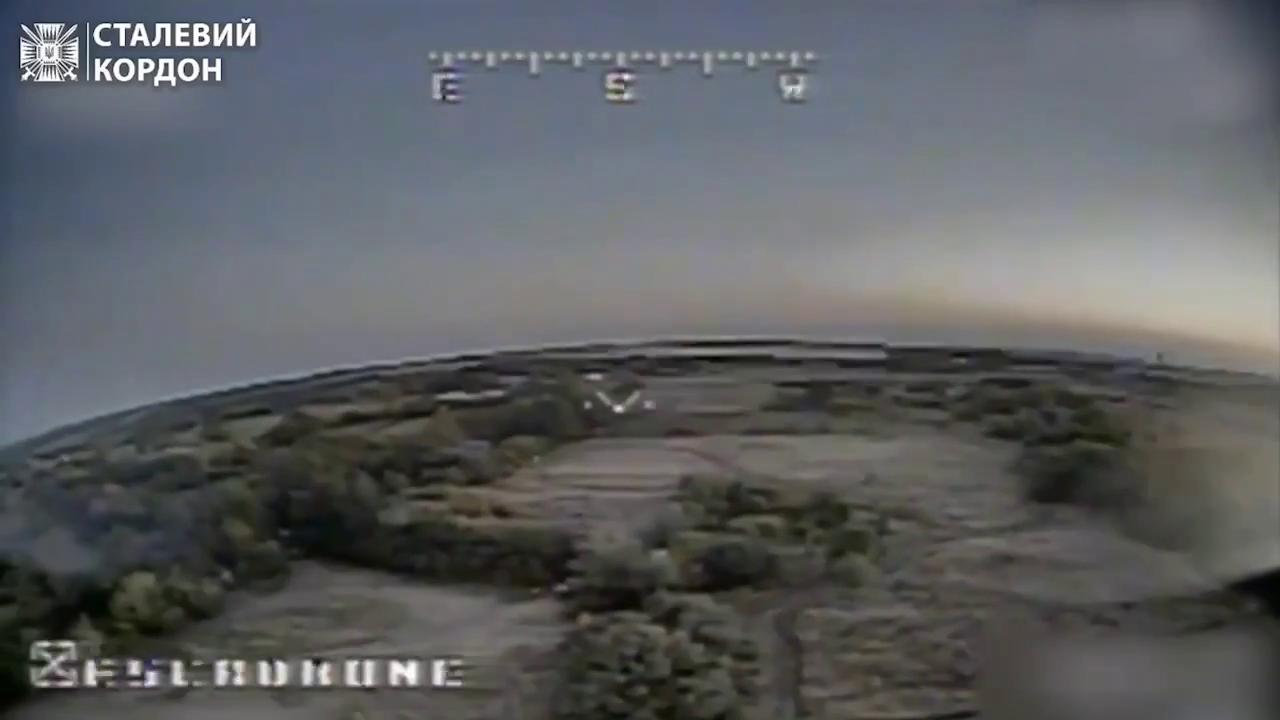tank: (194, 546, 254, 606)
